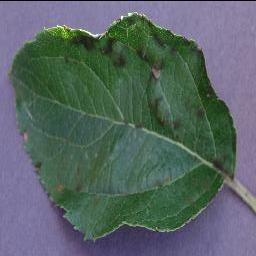apple healthy: (7, 11, 244, 242)
